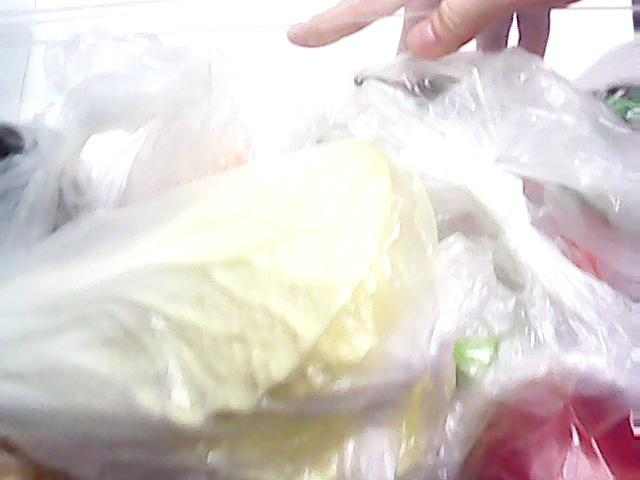apple: (468, 352, 640, 480)
carrot: (514, 163, 626, 287)
napa cabbage: (0, 137, 442, 469)
